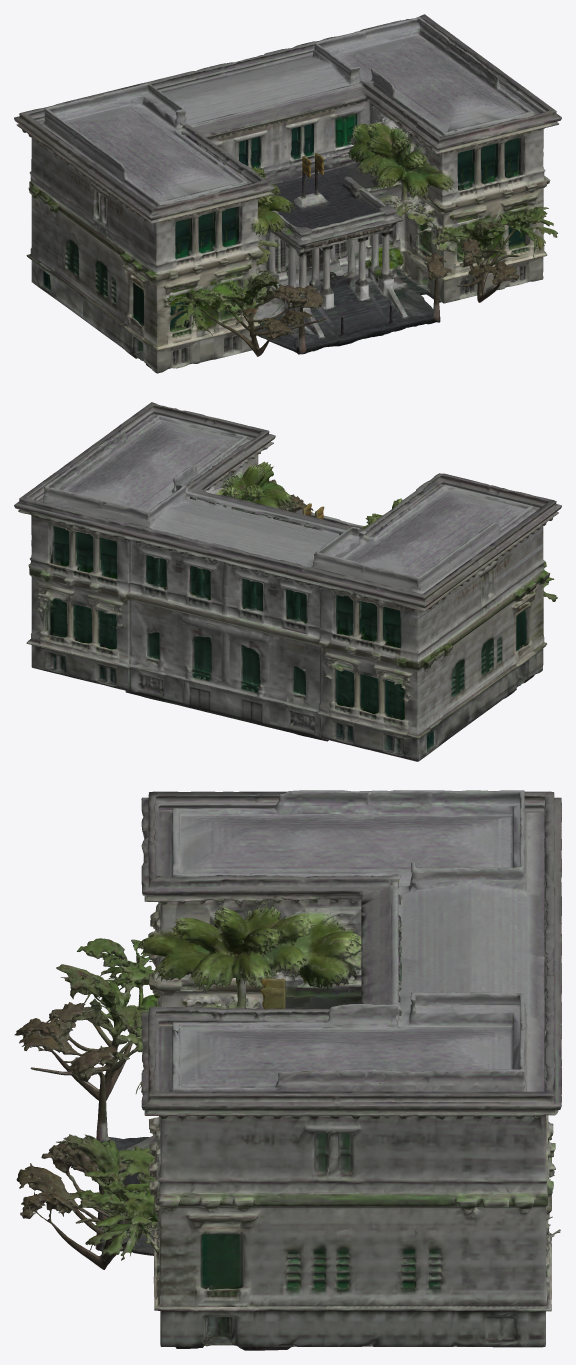
The model's file is nhnn.glb.
The picture shows the model from 3 angles, top to bottom: view 1: azimuth 30°, elevation 25°; view 2: azimuth 150°, elevation 25°; view 3: azimuth 270°, elevation 25°; orthographic projection. The views are drawn at different scales.
Visible parts, largest first — view 1: Mesh_0; view 2: Mesh_0; view 3: Mesh_0.
Boxes of the visible parts, box(x1,y1,x2,y2) form: Mesh_0: box(14, 14, 561, 373); Mesh_0: box(14, 402, 561, 761); Mesh_0: box(14, 790, 561, 1350).
Size of the model in its own units: 1.91 by 0.809 by 1.44.
1 material, 1 textured.
